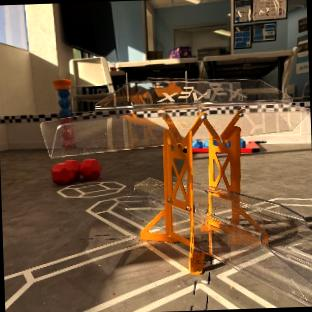V5_RED: (52, 159, 101, 185)
